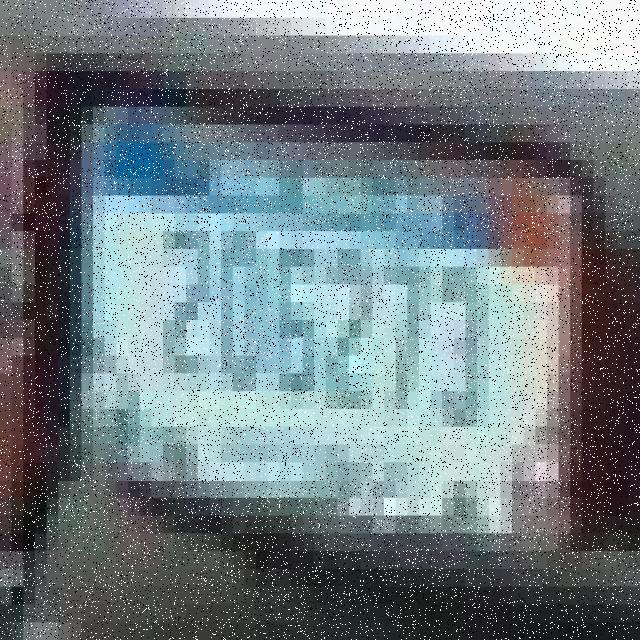licenseplate: (44, 18, 604, 556)
